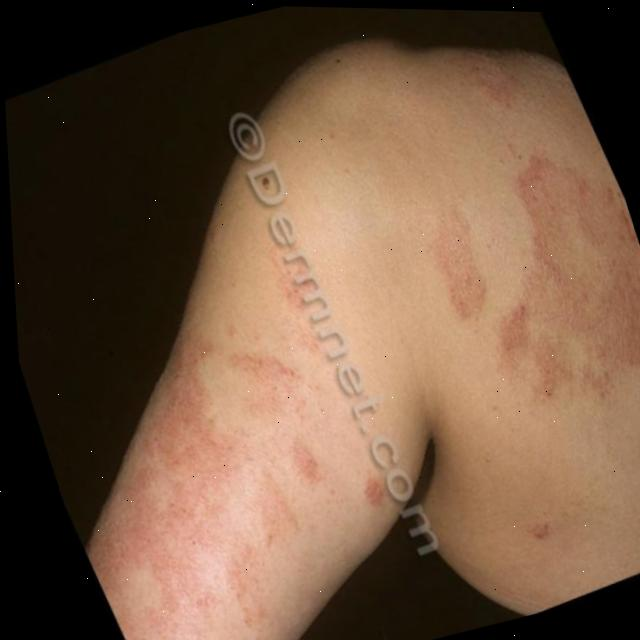Eczema: (43, 307, 380, 640), (393, 117, 640, 425)
